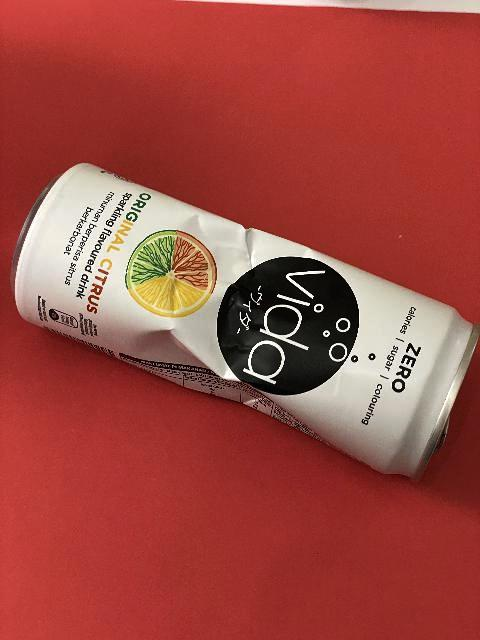drinkcan: (12, 162, 480, 483)
